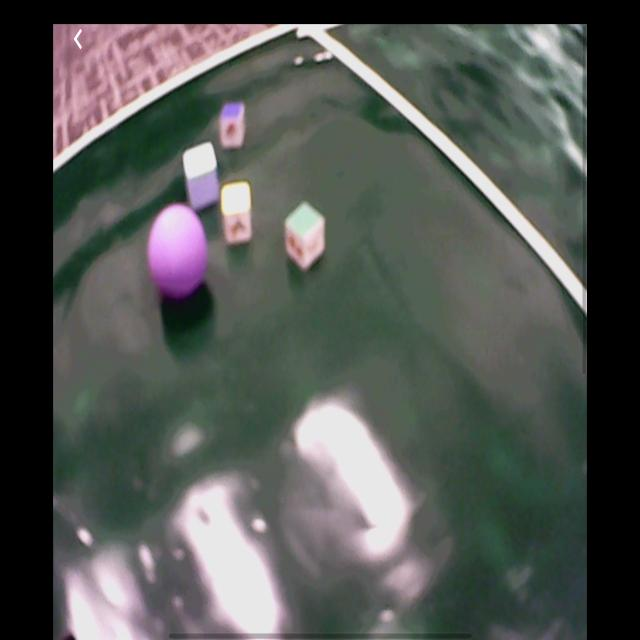ball: (148, 204, 210, 303)
